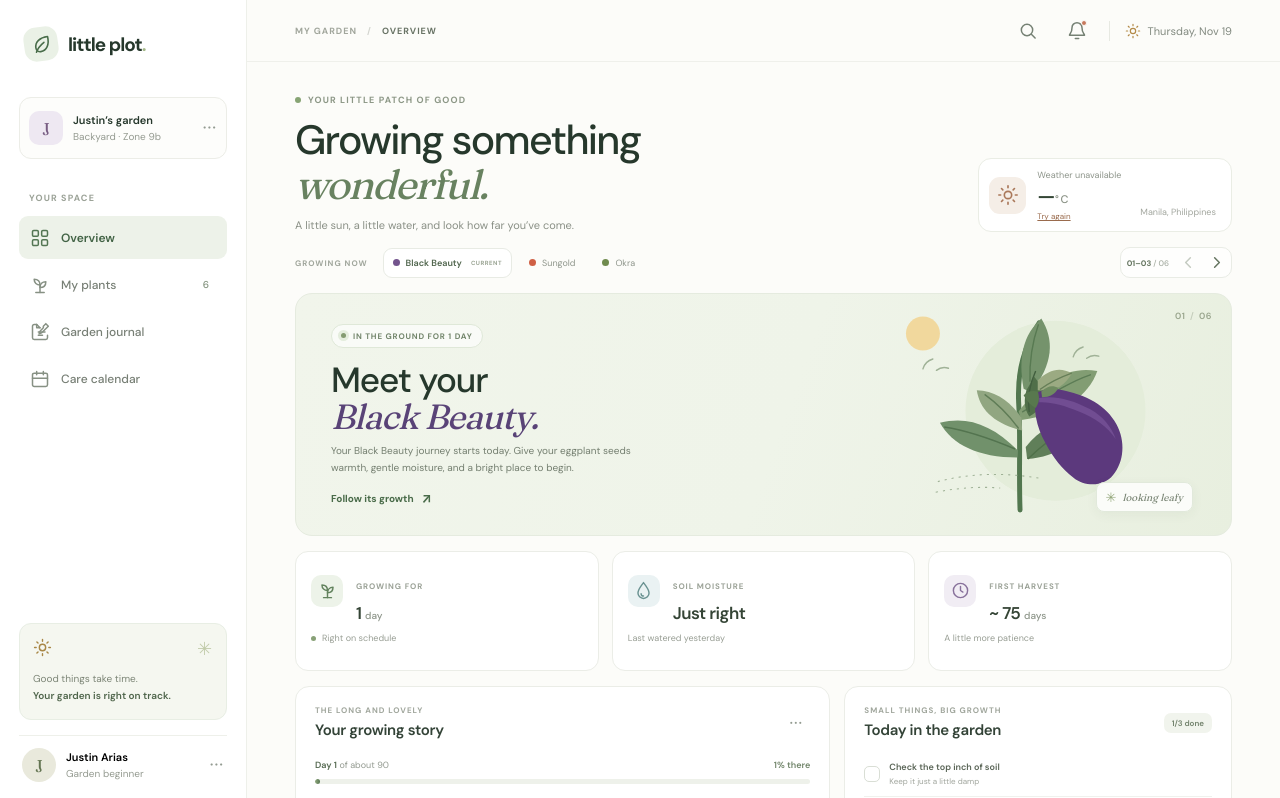
shows an error and retry when the weather service is unavailable
The image size is (1280, 798).
Expected: the text "Weather unavailable" is shown, [1037,169,1121,181]
Click the button "Try again". click: coordinates (1054, 216)
box: [1037,211,1071,221]
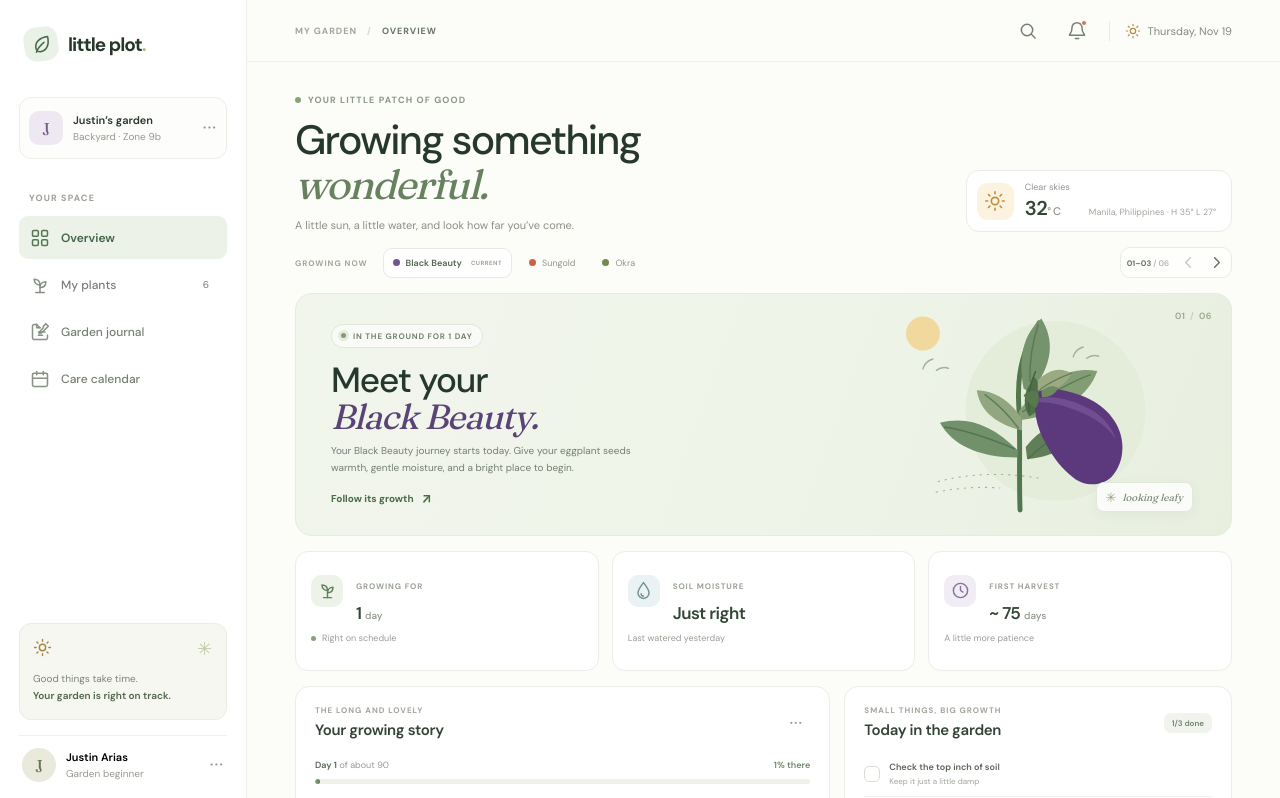
Now the text "· H 35° L 27°" is shown, box [1164,206,1216,218]
